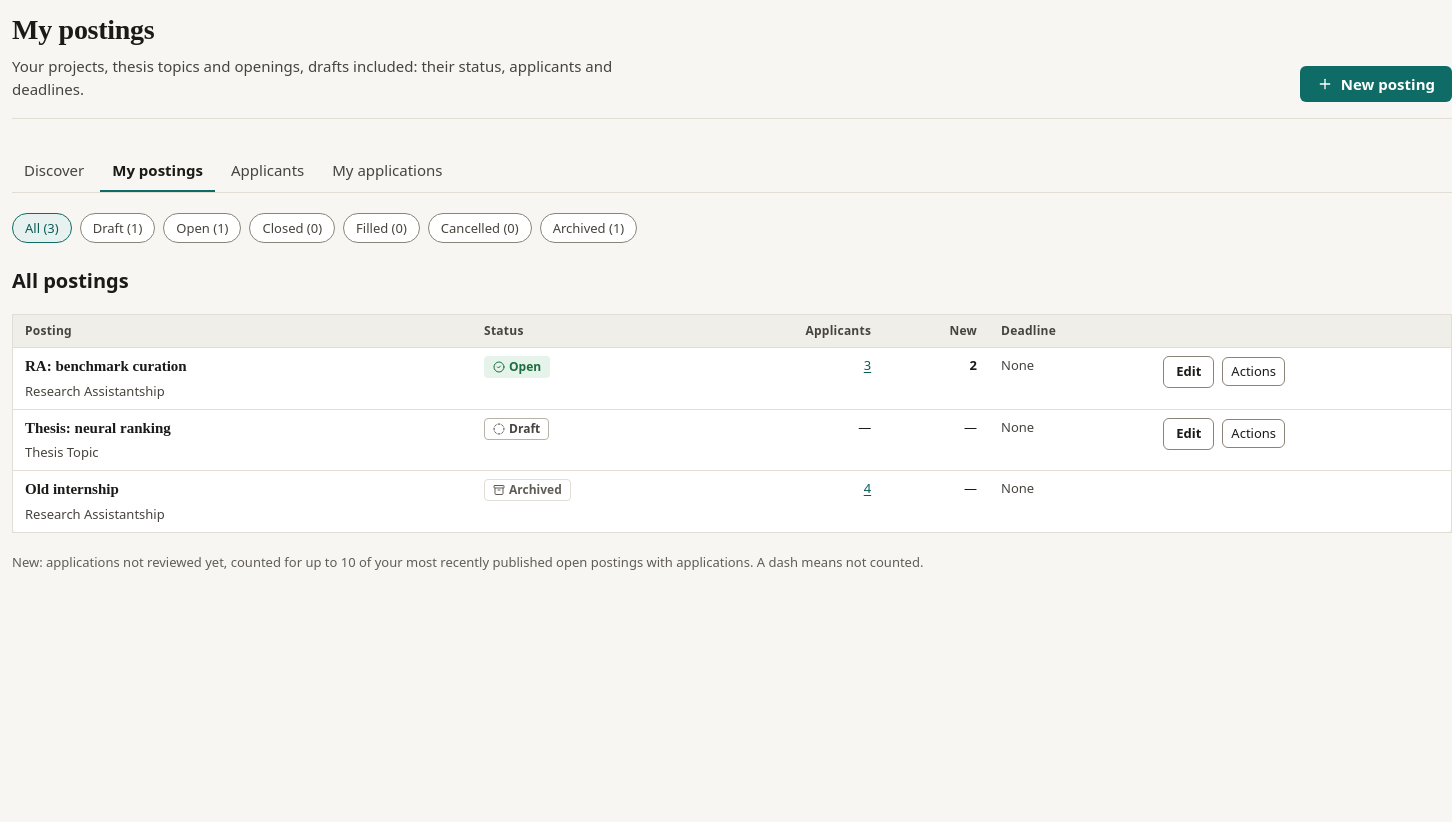
Test: My postings › filters by status with the server's counts, in the address
Expected: the button "All (3)" is shown, [12, 213, 72, 243]
Step 1. Click the button "Draft (1)" → x=117, y=228, box [80, 213, 155, 243]
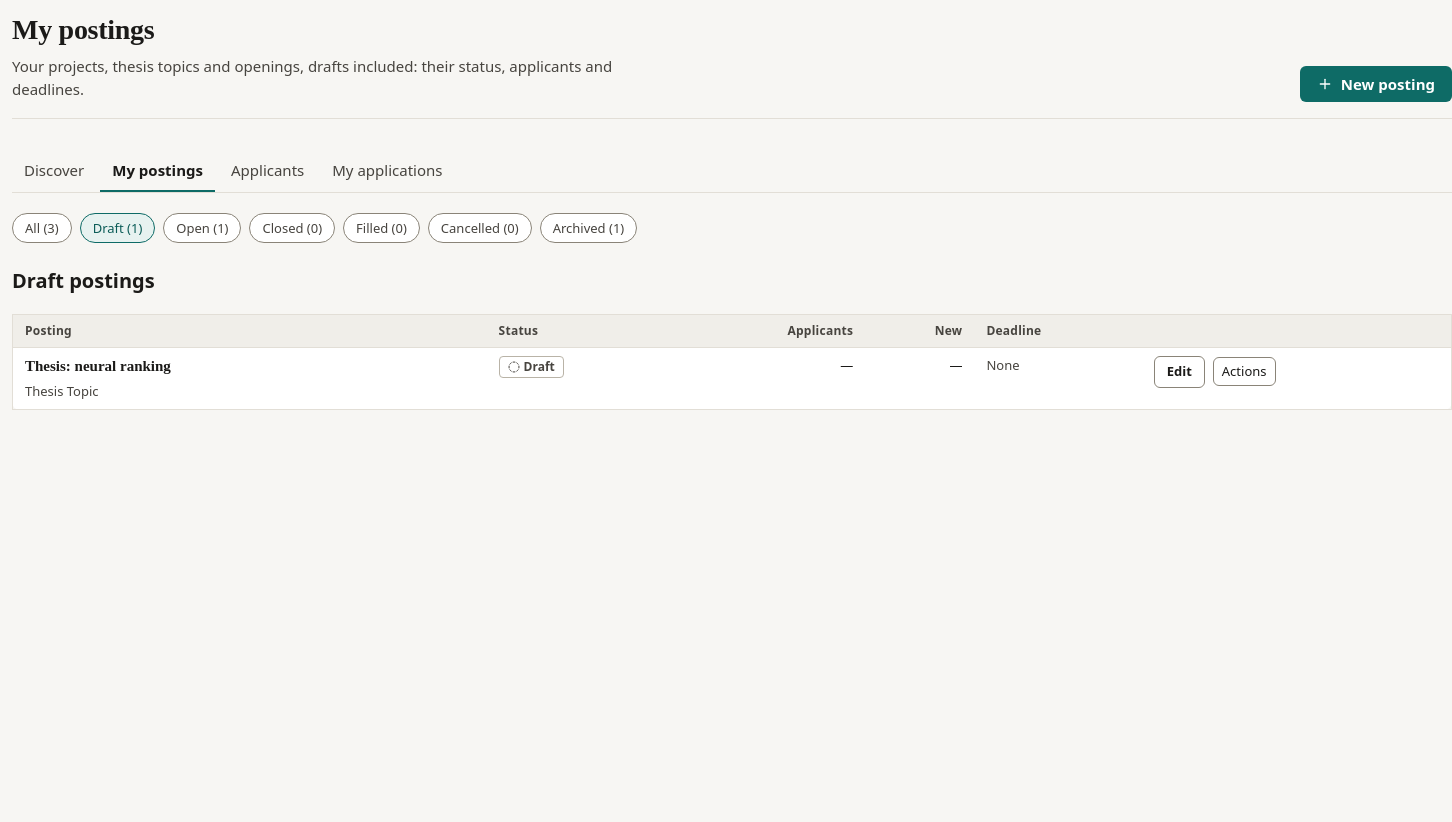
Expected: the link "Thesis: neural ranking" is shown, [25, 358, 171, 374]
Expected: the link "RA: benchmark curation" is gone
